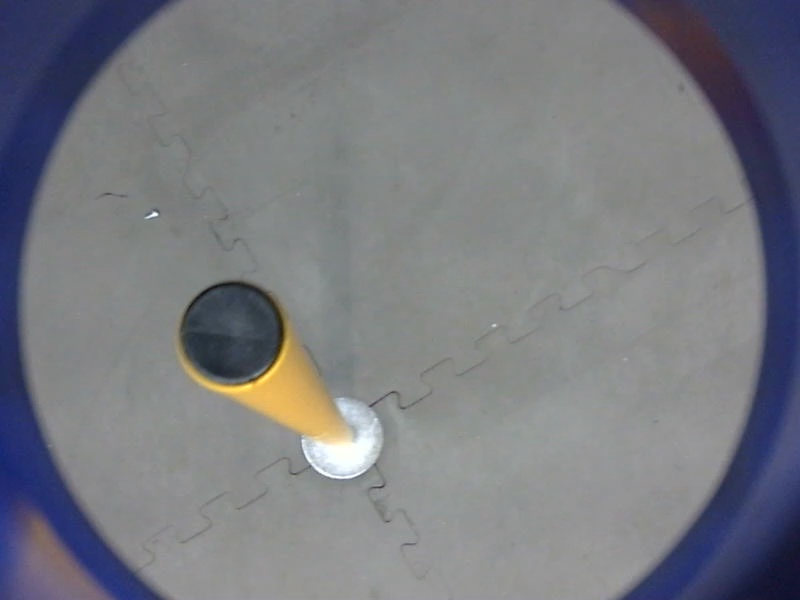tip: (167, 272, 292, 399)
